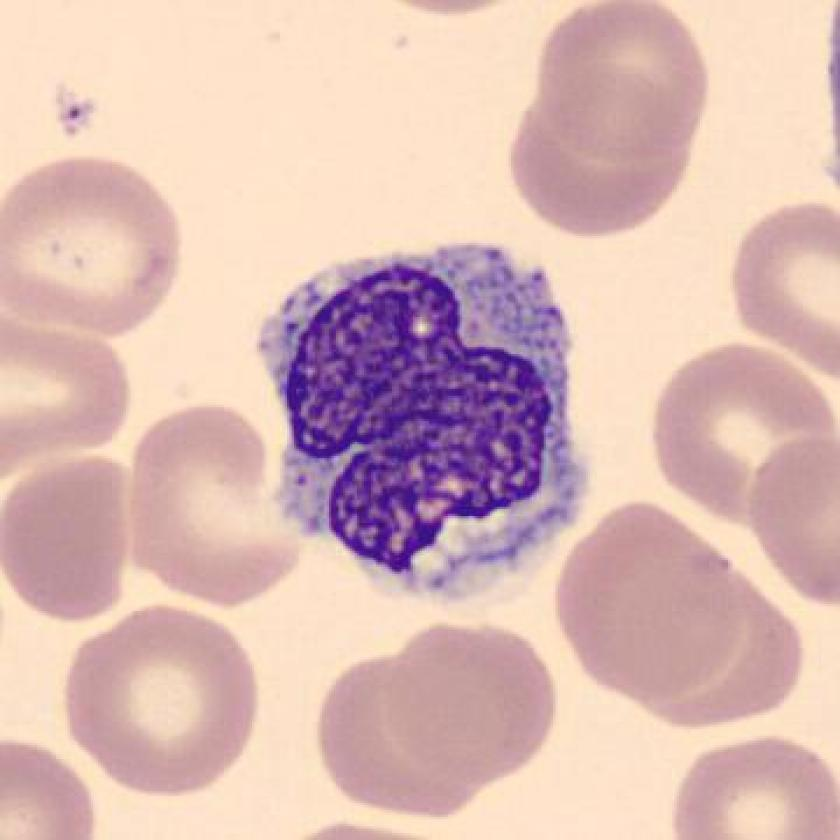monocyte: (232, 221, 619, 635)
